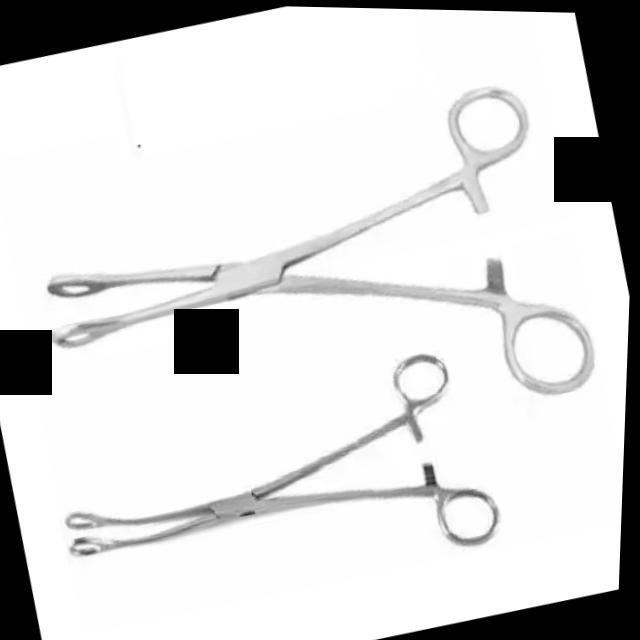Sponge Holding Forceps: (0, 54, 619, 514)
